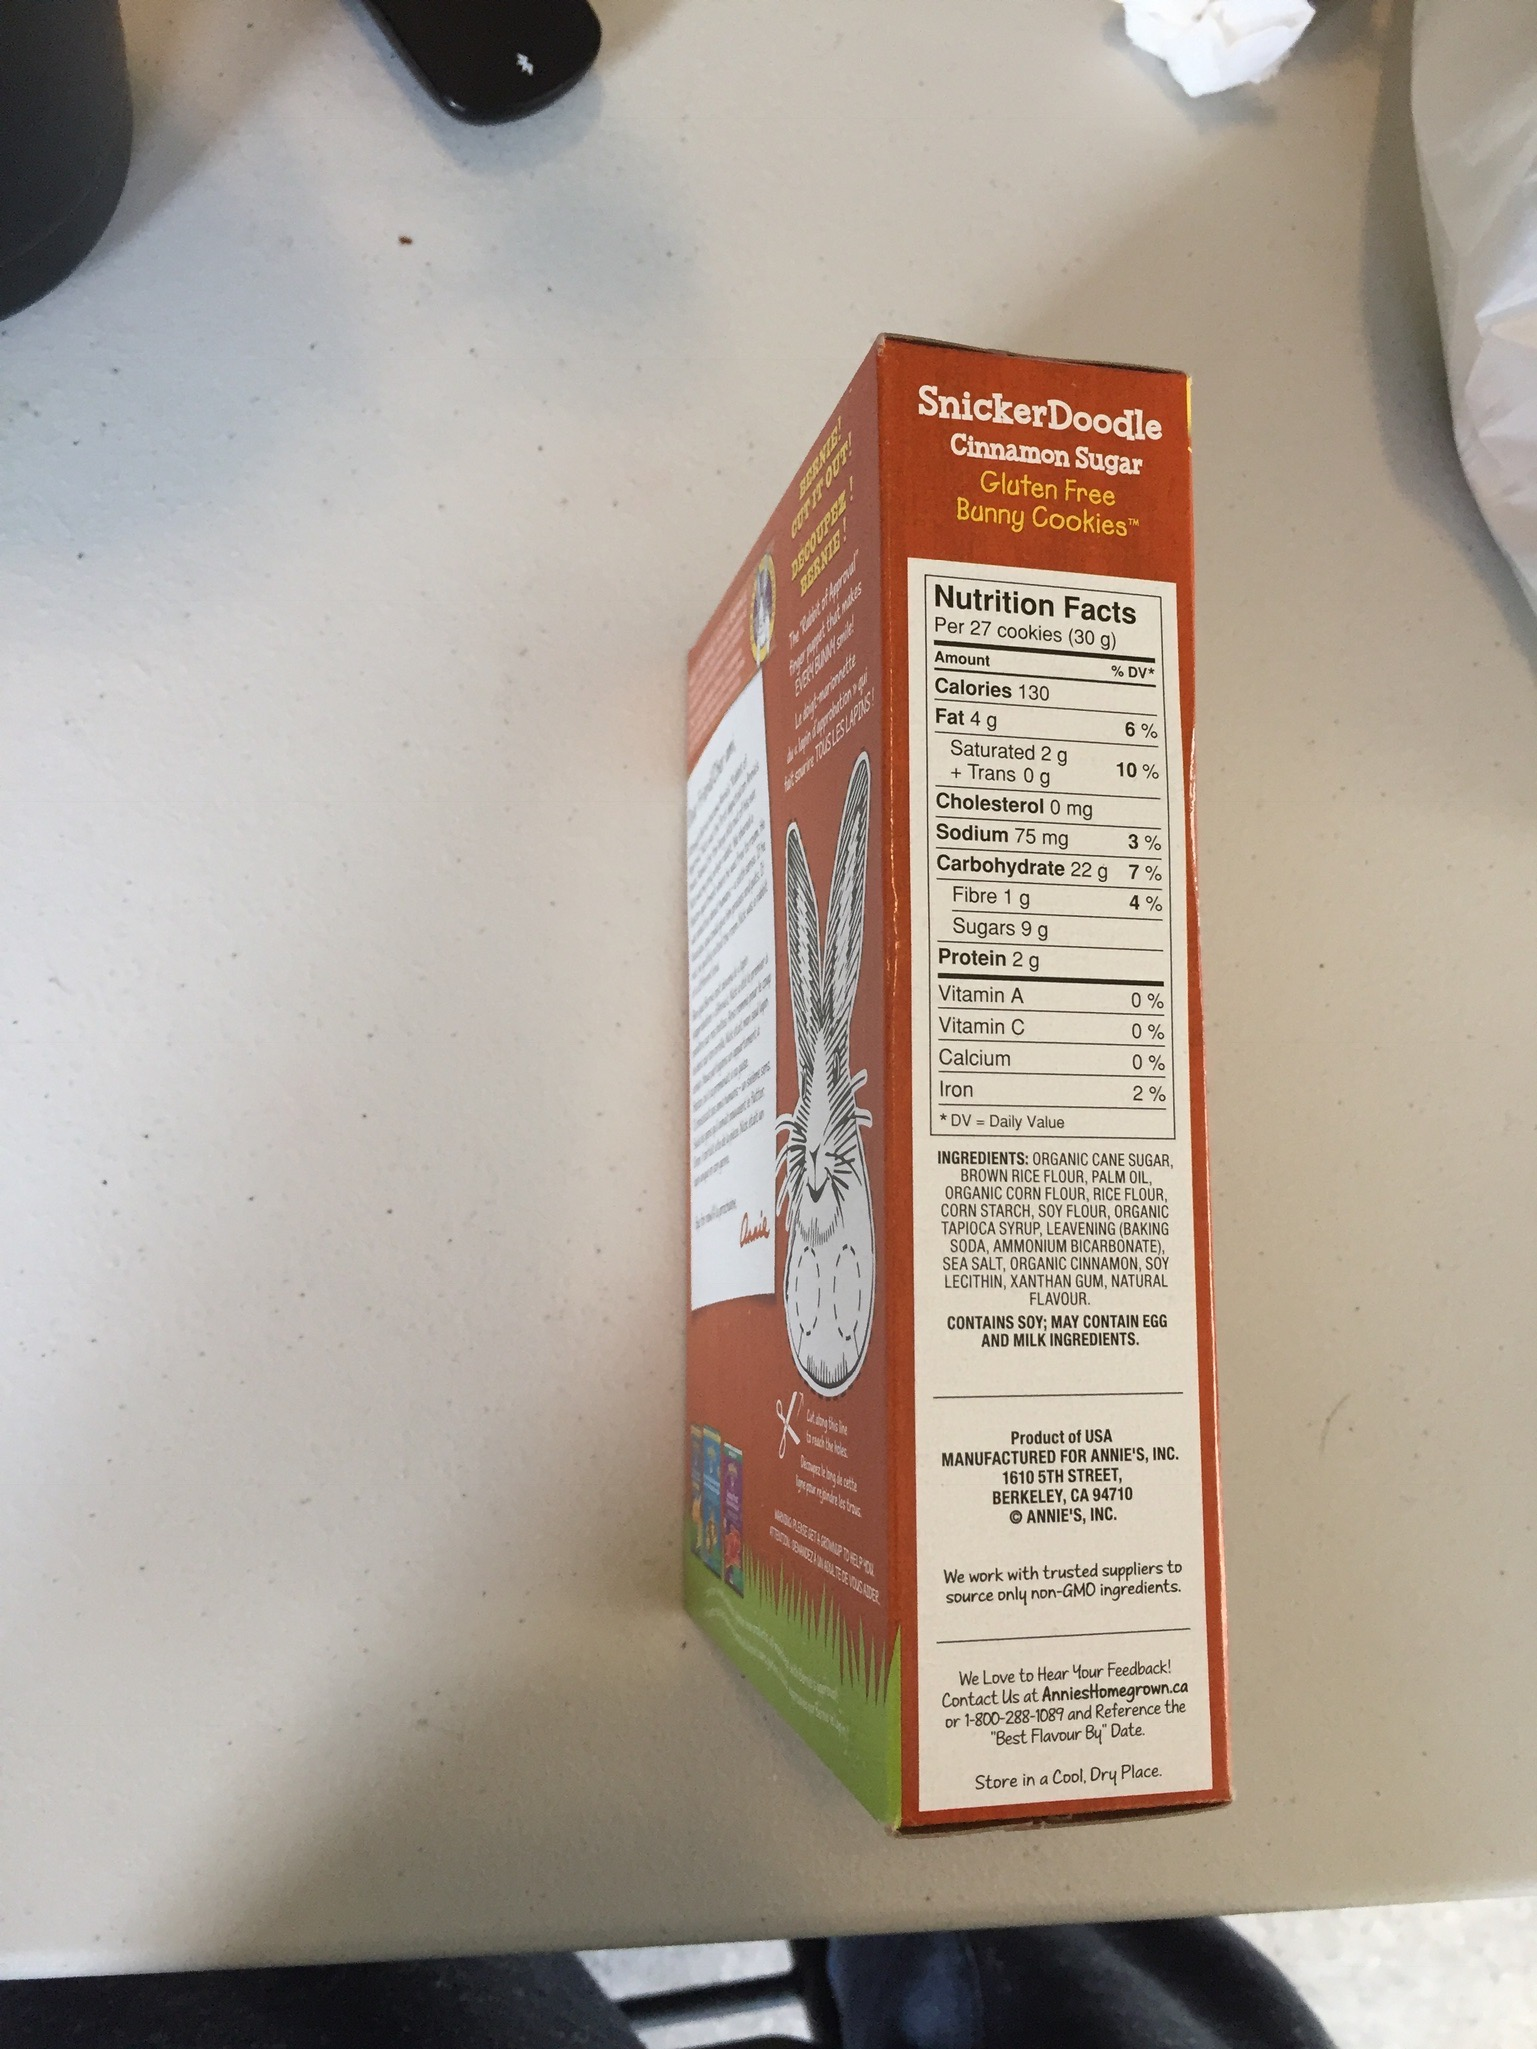annies_snickerdoodle_cinnamon_sugar: (882, 352, 1217, 1808)
